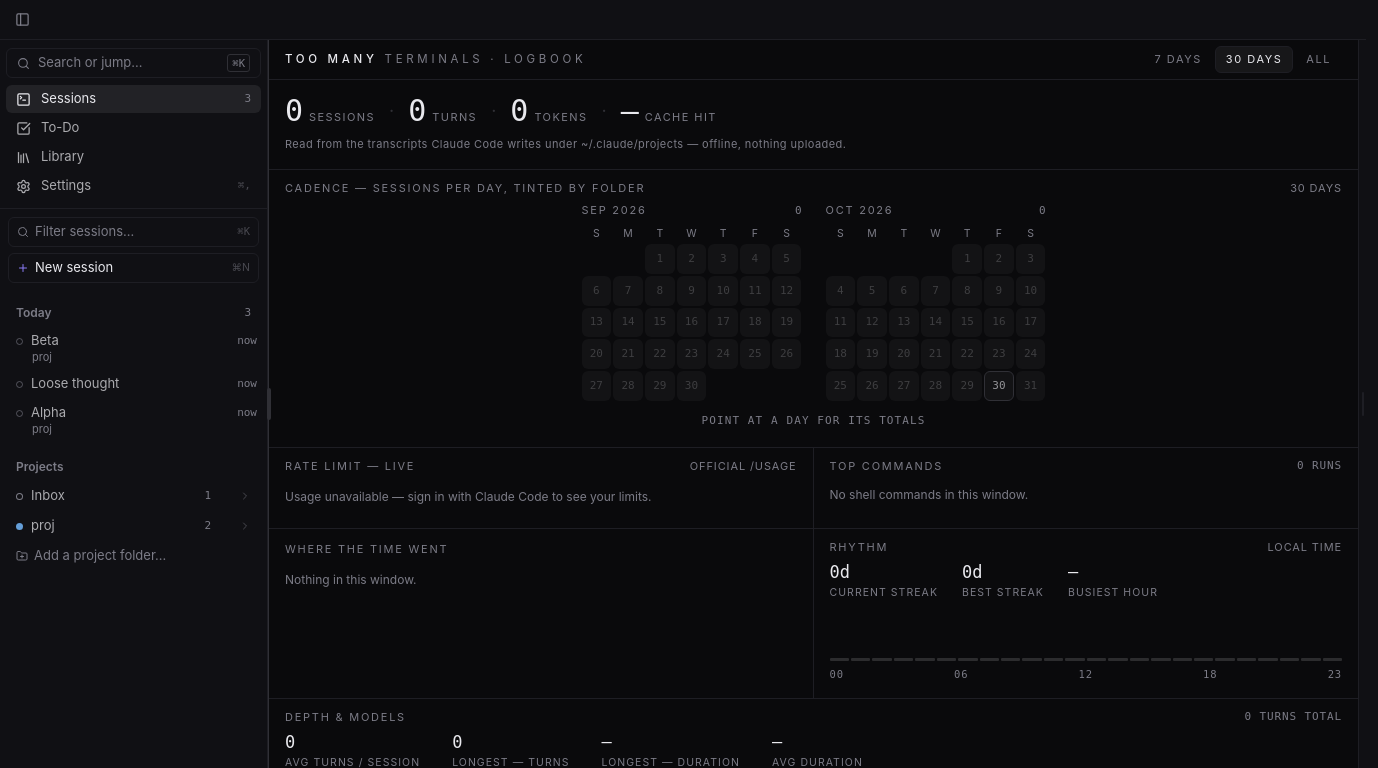
Test: information architecture › opens sessions as tabs, newest at the left
Click the element showing "Alpha now proj".
click(49, 412)  # box [4, 399, 263, 441]
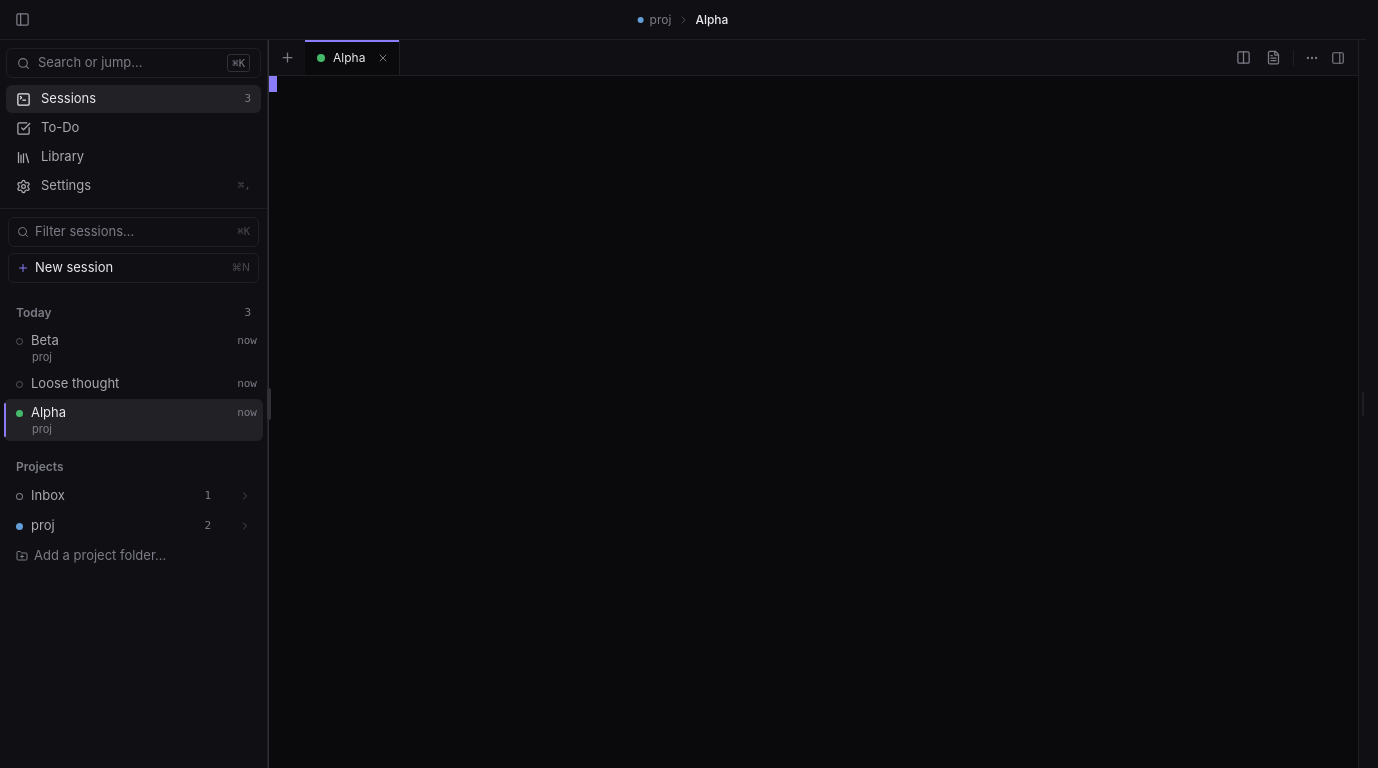
Click the element showing "Beta now proj".
click(20, 341)  # box [4, 327, 263, 369]
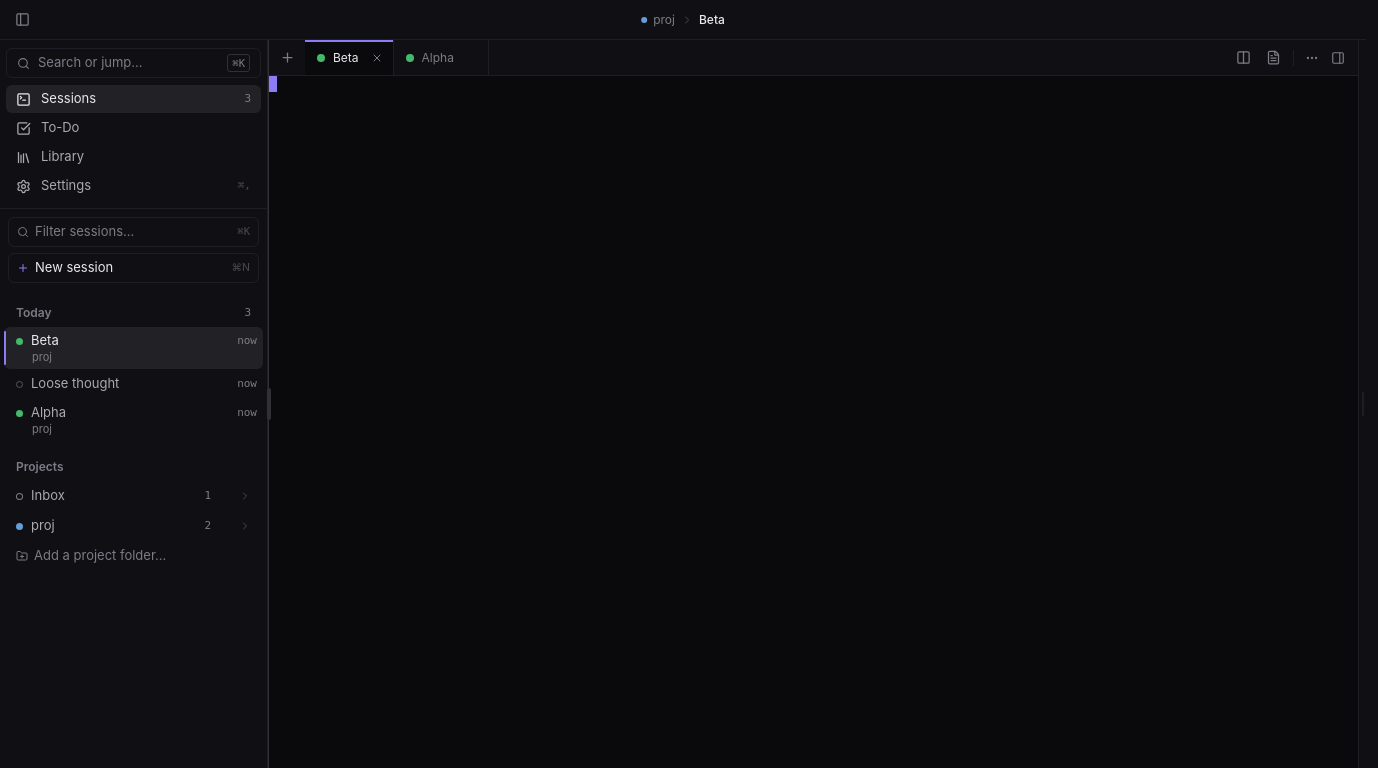
Note: Opening one that's already there doesn't shuffle the strip.
Click the element showing "Alpha now proj".
click(49, 412)  # box [4, 399, 263, 441]
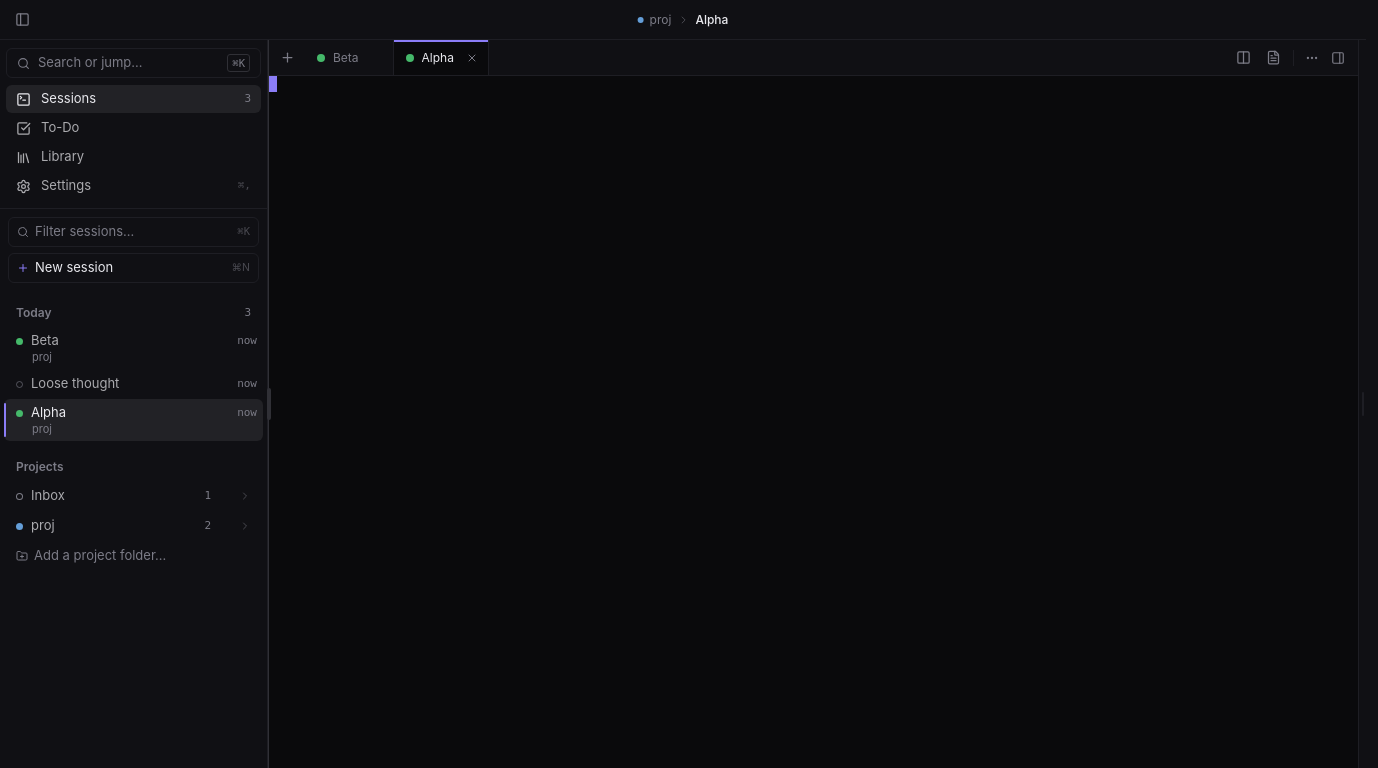
Result: the 1st text "Alpha" is shown at [695, 10, 728, 28]
